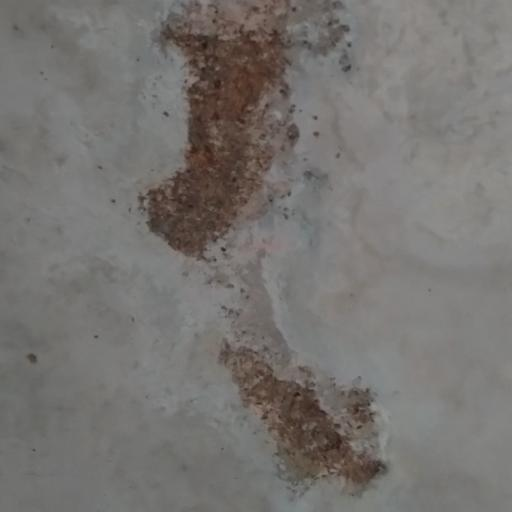spalling: (119, 1, 397, 301), (180, 326, 396, 506)
